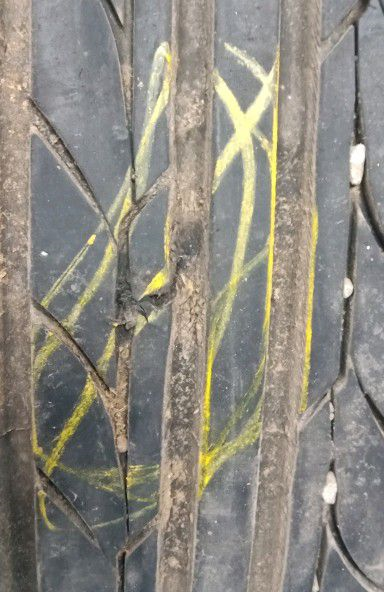tr: (112, 222, 206, 353)
